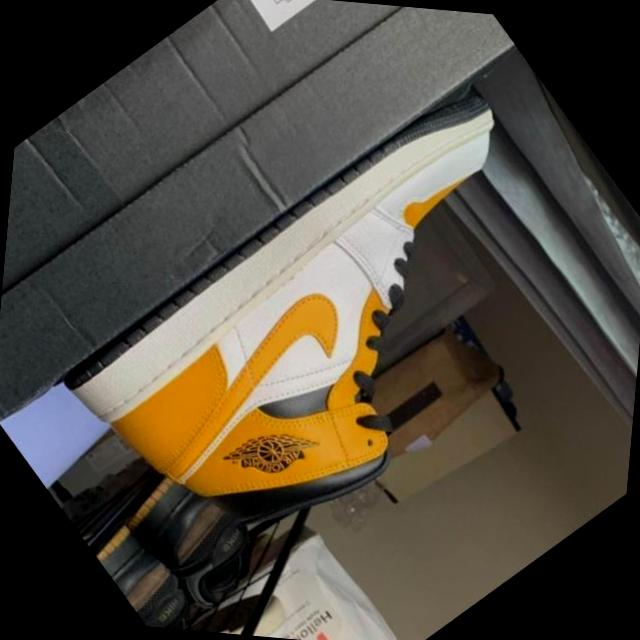nike_original_jordan: (33, 36, 640, 629)
